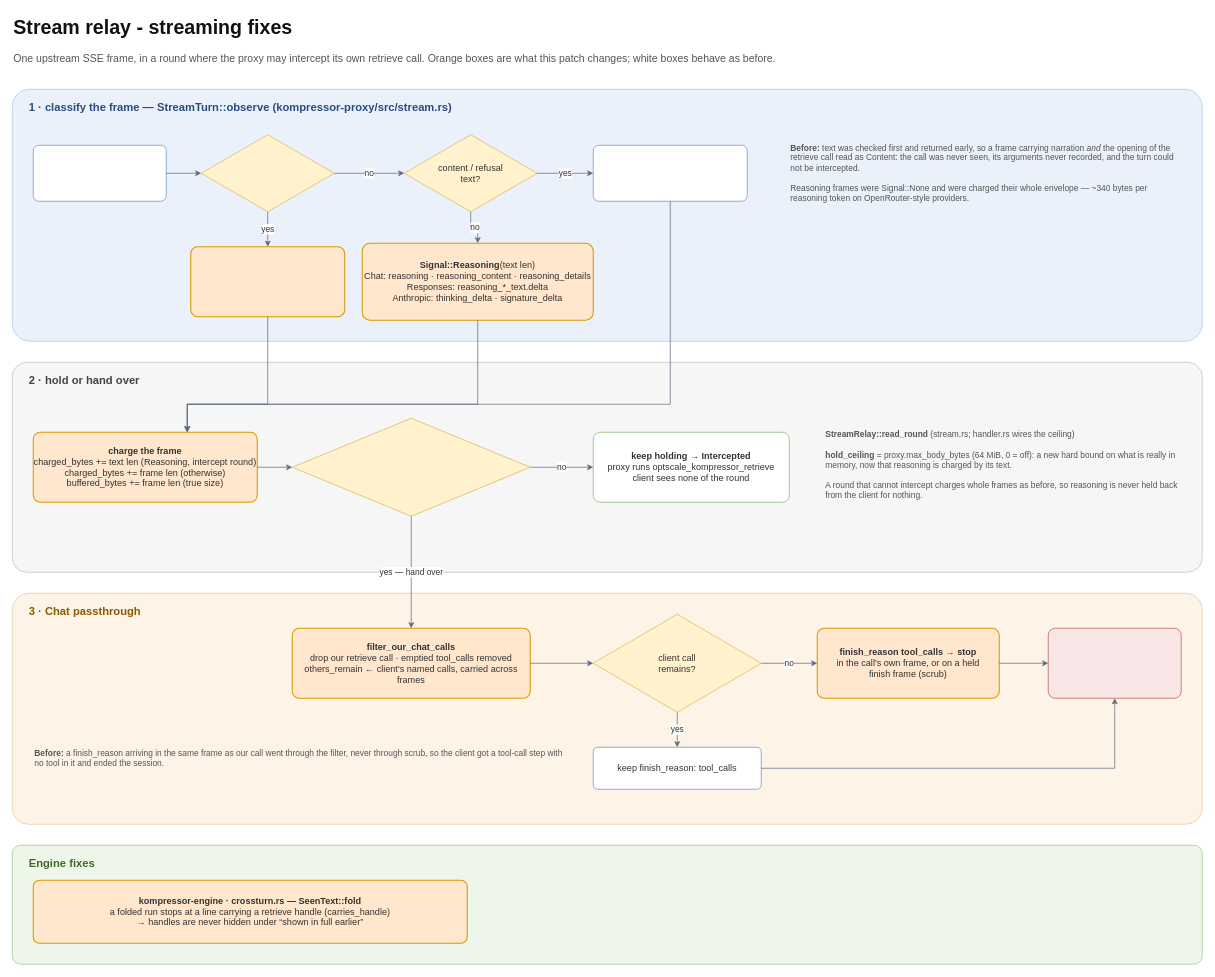
This 1215x977 diagram has some shape labels left out. Here are the shapes that lost their labels. From the top down, the centre of each, then its label:
At [99,173]: "upstream SSE frame Chat · Responses · Anthropic".
At [267,173]: "Chat: delta has tool_calls?".
At [670,173]: "Signal::Content (text len) narration".
At [267,281]: "observe_chat_calls RetrieveCall / OtherCall calls checked before text".
At [411,467]: "charged > buffer / intercept limit or buffered > hold_ceiling?".
At [1114,663]: "client never sees a tool_calls turn without a tool".
